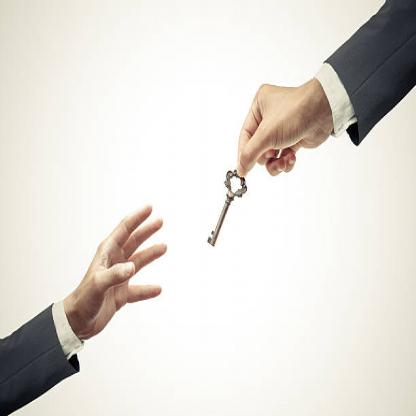keys: (201, 160, 248, 250)
